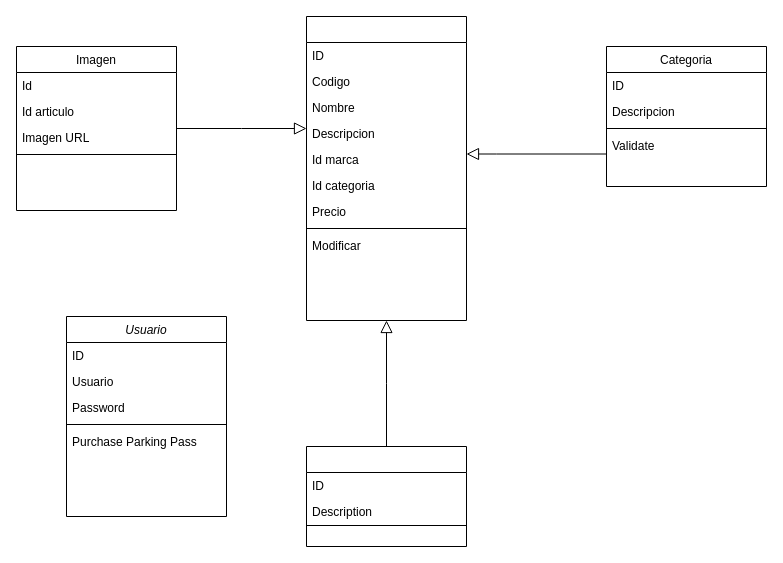
Some shapes in this 783 by 563 pixel diagram are drawn without their labels. Here are the shapes that lost their labels. From the top down, the box of each, then its label:
(306, 16, 466, 320): Articulo
(306, 446, 466, 546): Marca
